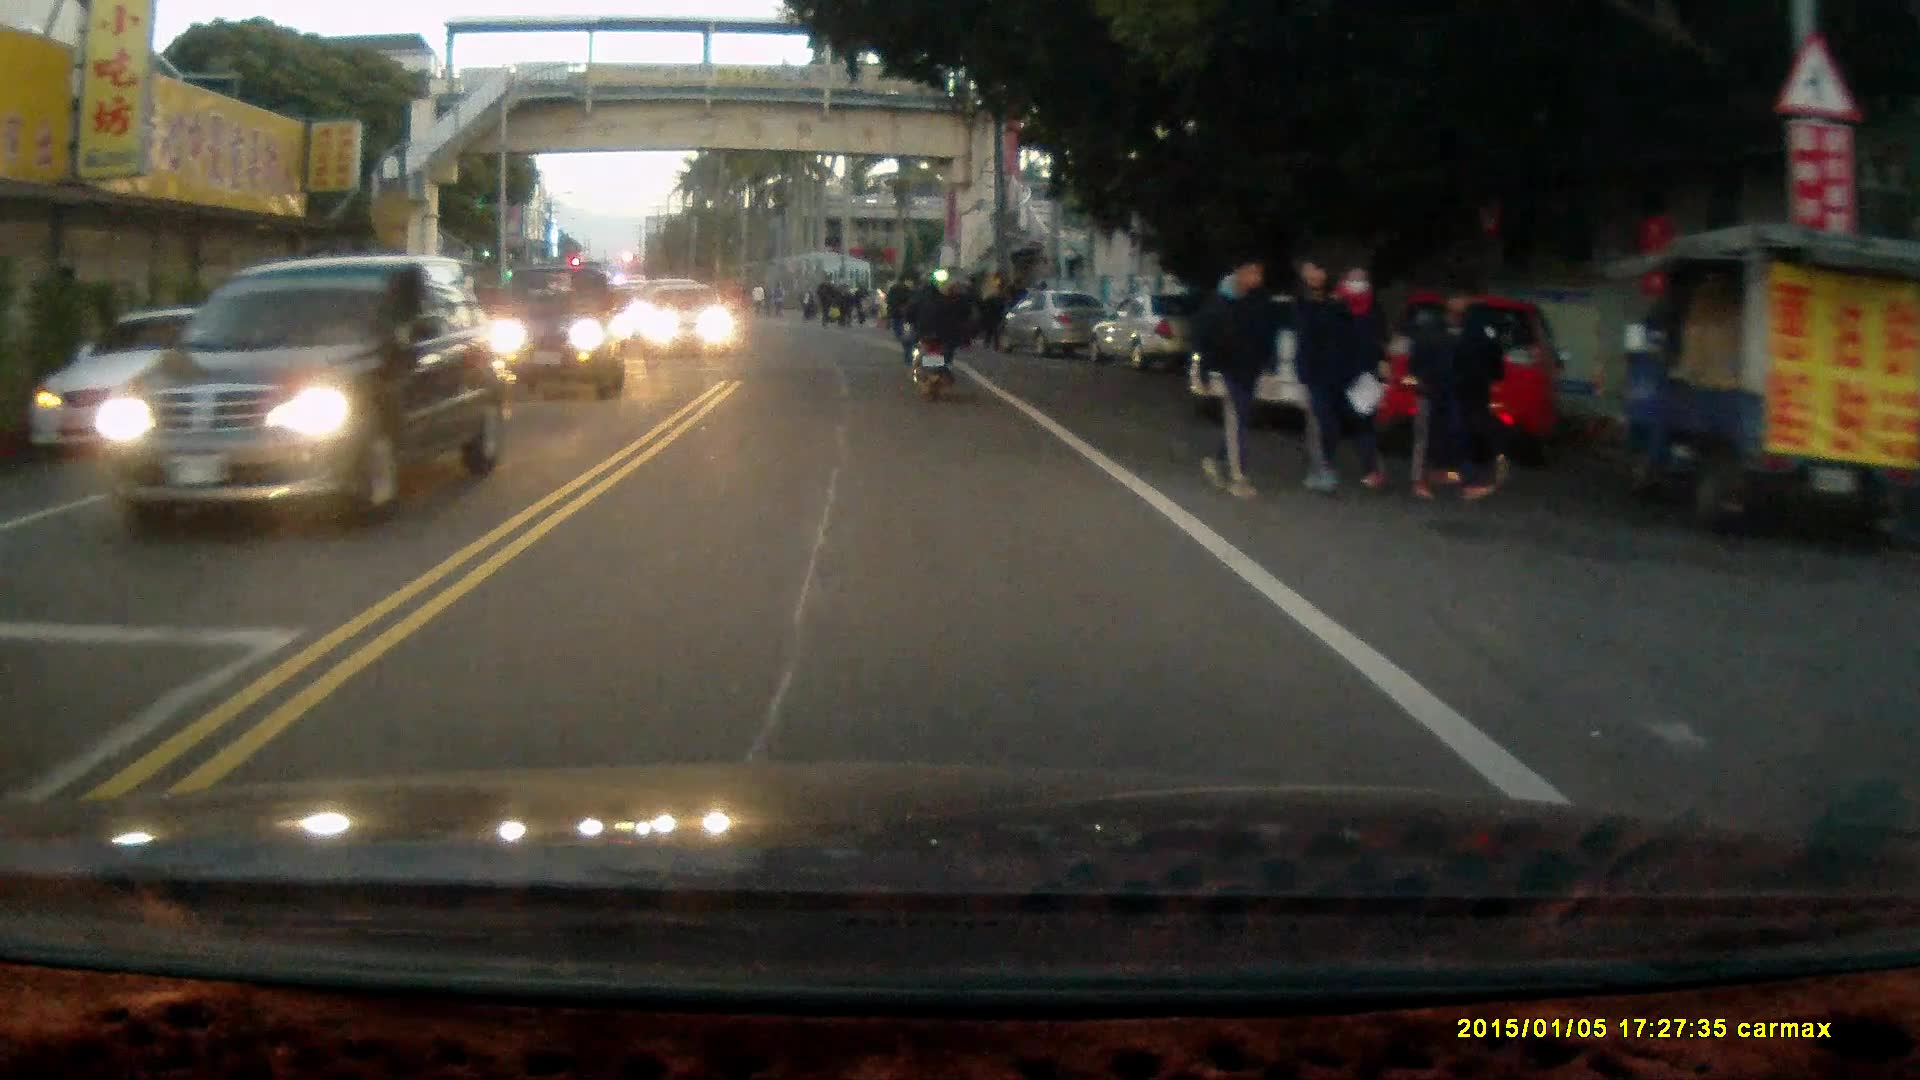pedestrian: (1189, 246, 1281, 503), (1288, 251, 1363, 504), (1410, 282, 1493, 507), (1318, 258, 1394, 489), (957, 270, 986, 353), (978, 283, 1007, 350), (946, 276, 970, 349)
rider: (892, 269, 960, 404)
vehicle: (112, 252, 505, 540), (1338, 287, 1565, 469), (1184, 284, 1404, 430), (477, 267, 629, 402), (1093, 289, 1209, 371), (998, 291, 1116, 359), (645, 286, 739, 361)
